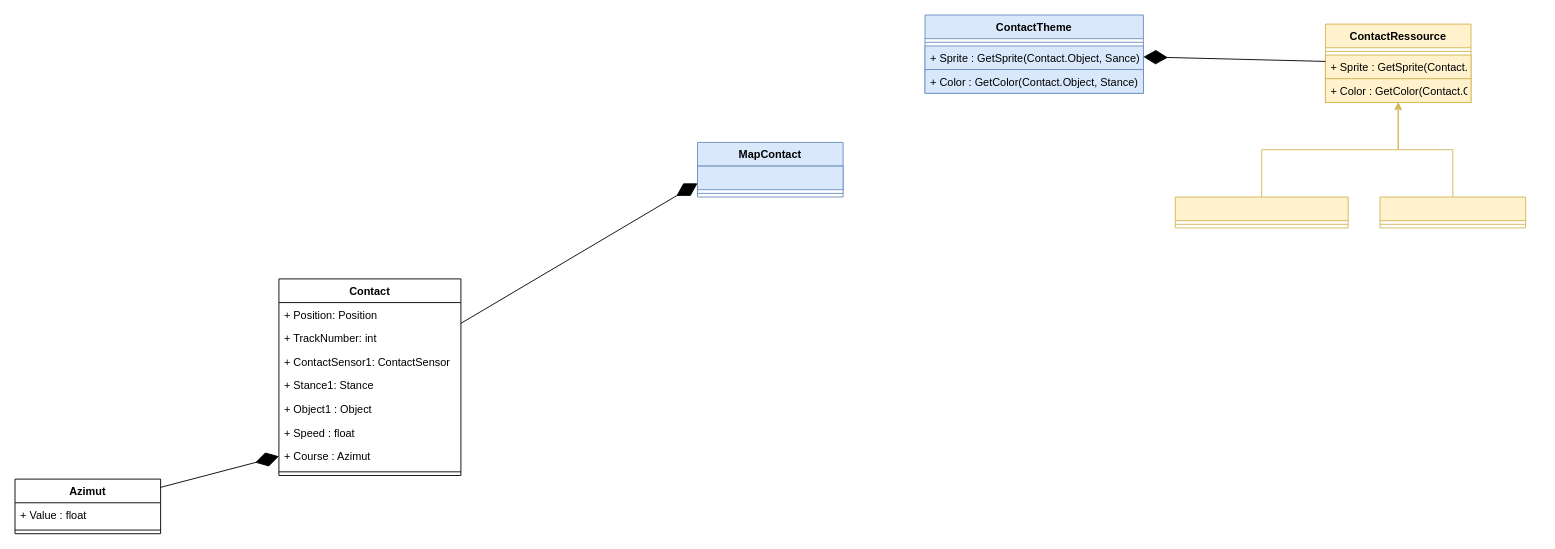
Some shapes in this 1555 by 549 pixel diagram are drawn without their labels. Here are the shapes that lost their labels. From the top down, the centre of each, then its label:
At (x=770, y=177): "+ ThisContact : Contact".
At (x=1261, y=212): "ContactRessourceWithCoalition".
At (x=1452, y=212): "ContactRessourceSimple".
